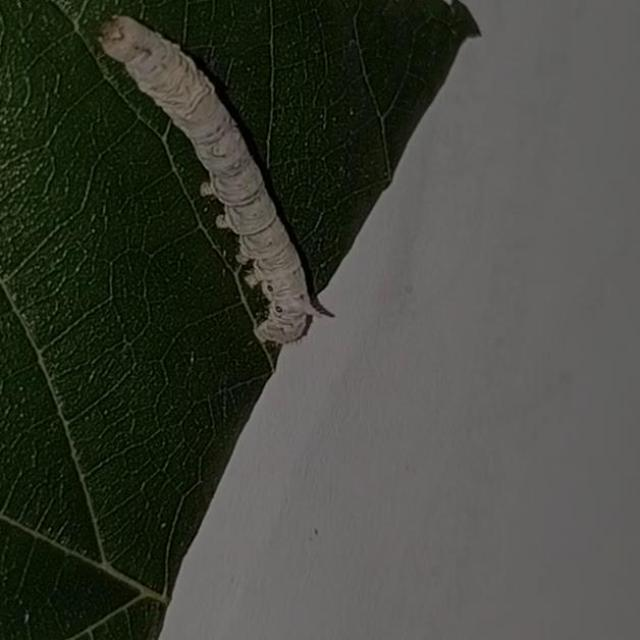Healthy: (81, 0, 380, 389)
